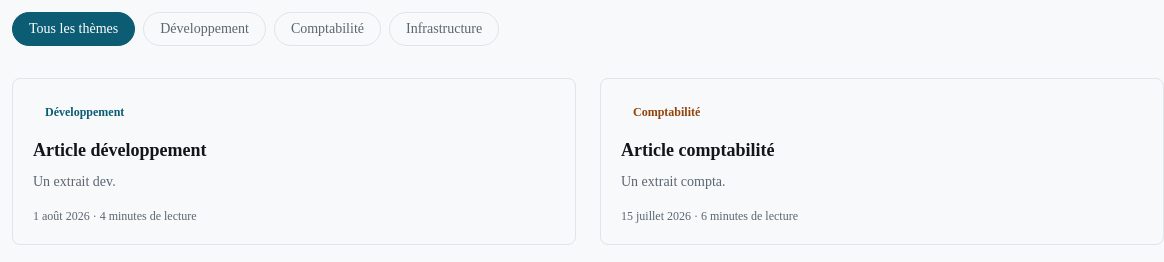
Test: BlogFilter › filtre par thème au clic
Click the button "Comptabilité". click: click(327, 29)
box: [274, 12, 381, 46]
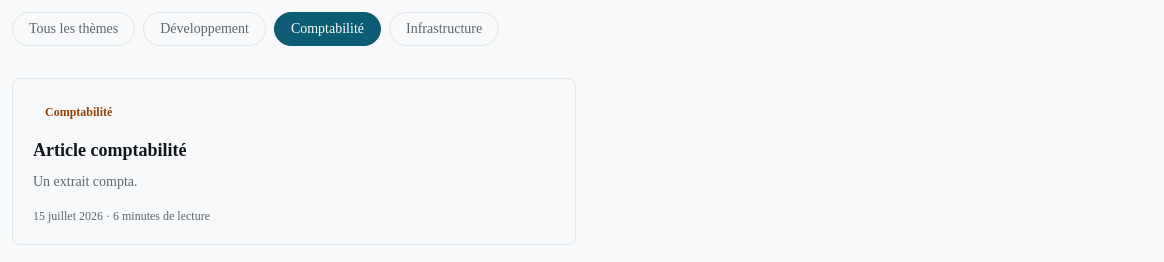
expect the heading "Article comptabilité" is shown: met, box [33, 140, 186, 160]
expect the link "Article développement" is gone: met
